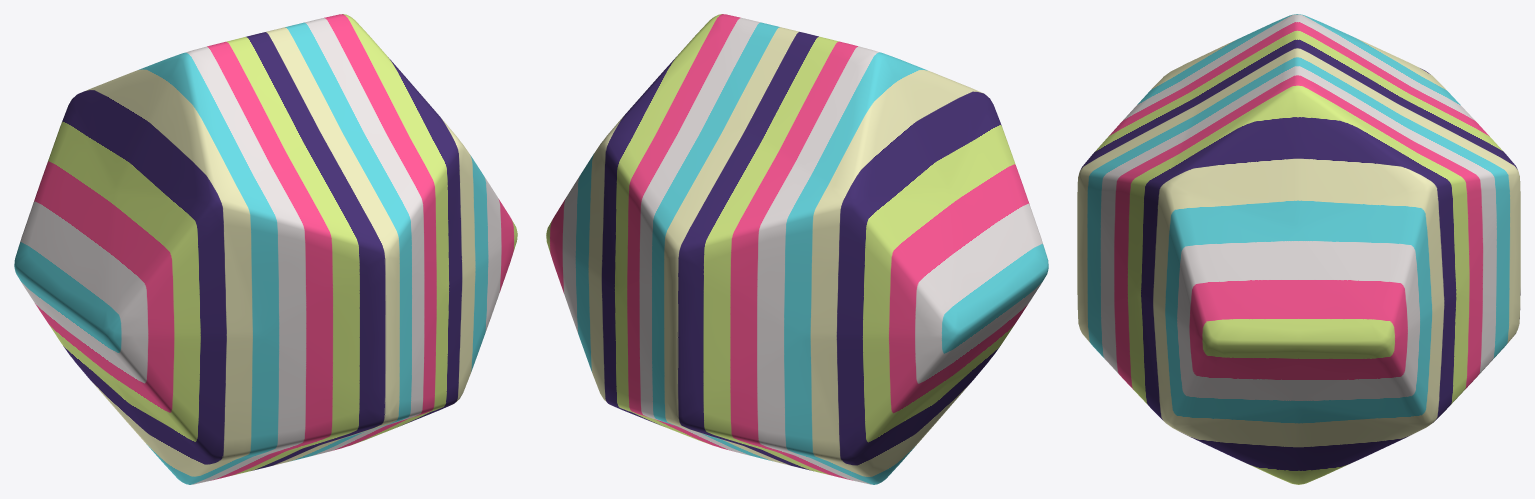
File: B-7_Onstick.fbx
The picture shows the model from 3 angles, left to right: view 1: azimuth 30°, elevation 25°; view 2: azimuth 150°, elevation 25°; view 3: azimuth 270°, elevation 25°; orthographic projection. The views are drawn at different scales.
Visible parts, largest first — view 1: B-7; view 2: B-7; view 3: B-7.
Boxes of the visible parts, x1=… form: B-7: x1=14, y1=14, x2=517, y2=484; B-7: x1=546, y1=14, x2=1048, y2=484; B-7: x1=1077, y1=14, x2=1520, y2=484.
Size of the model in its own units: 109 by 109 by 110.
